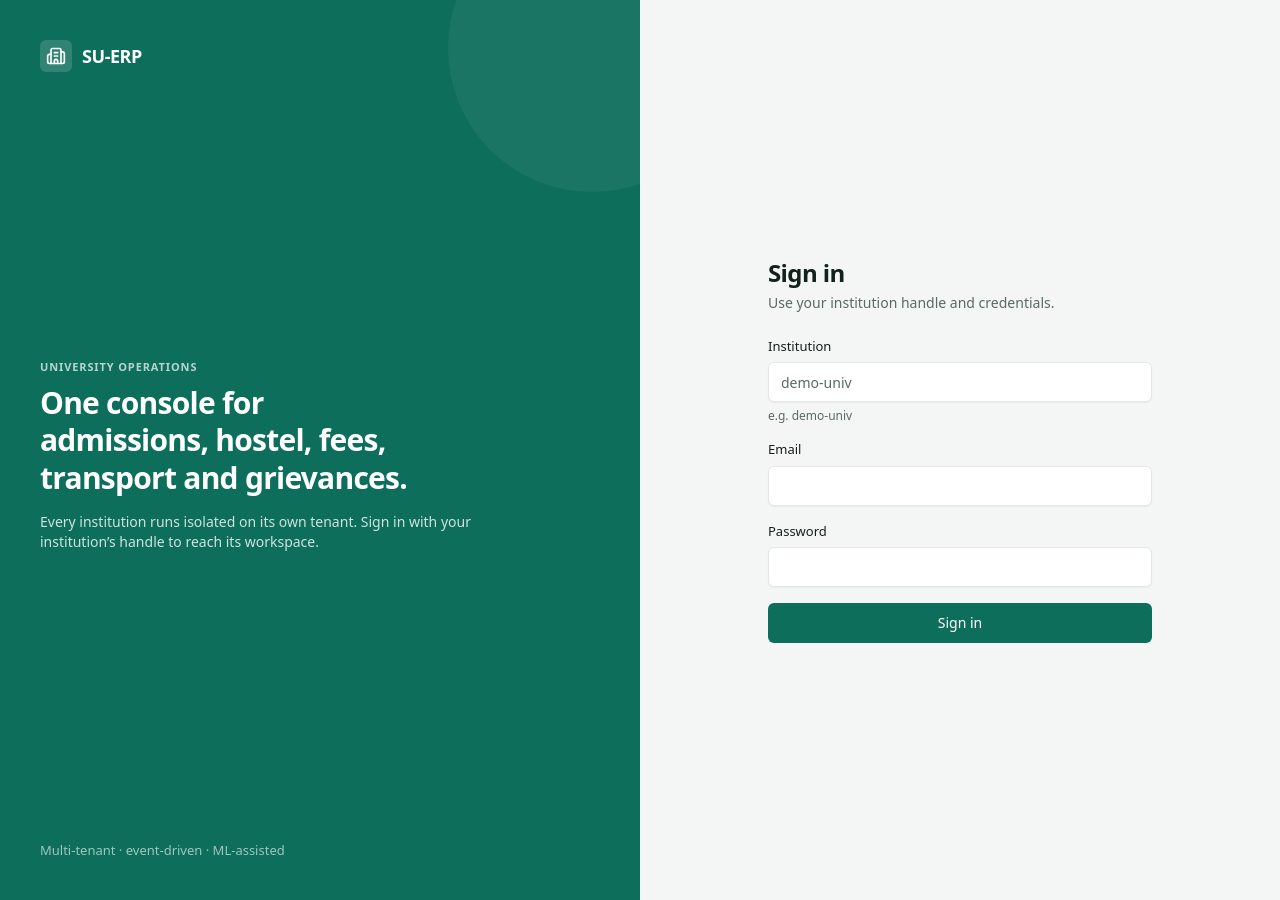
Test: LoginPage › displays the envelope error message on failed login
The width and height of the screenshot is (1280, 900).
Type "acme-univ" into the field labelled "Institution" at (960, 382), box [768,362,1152,402]
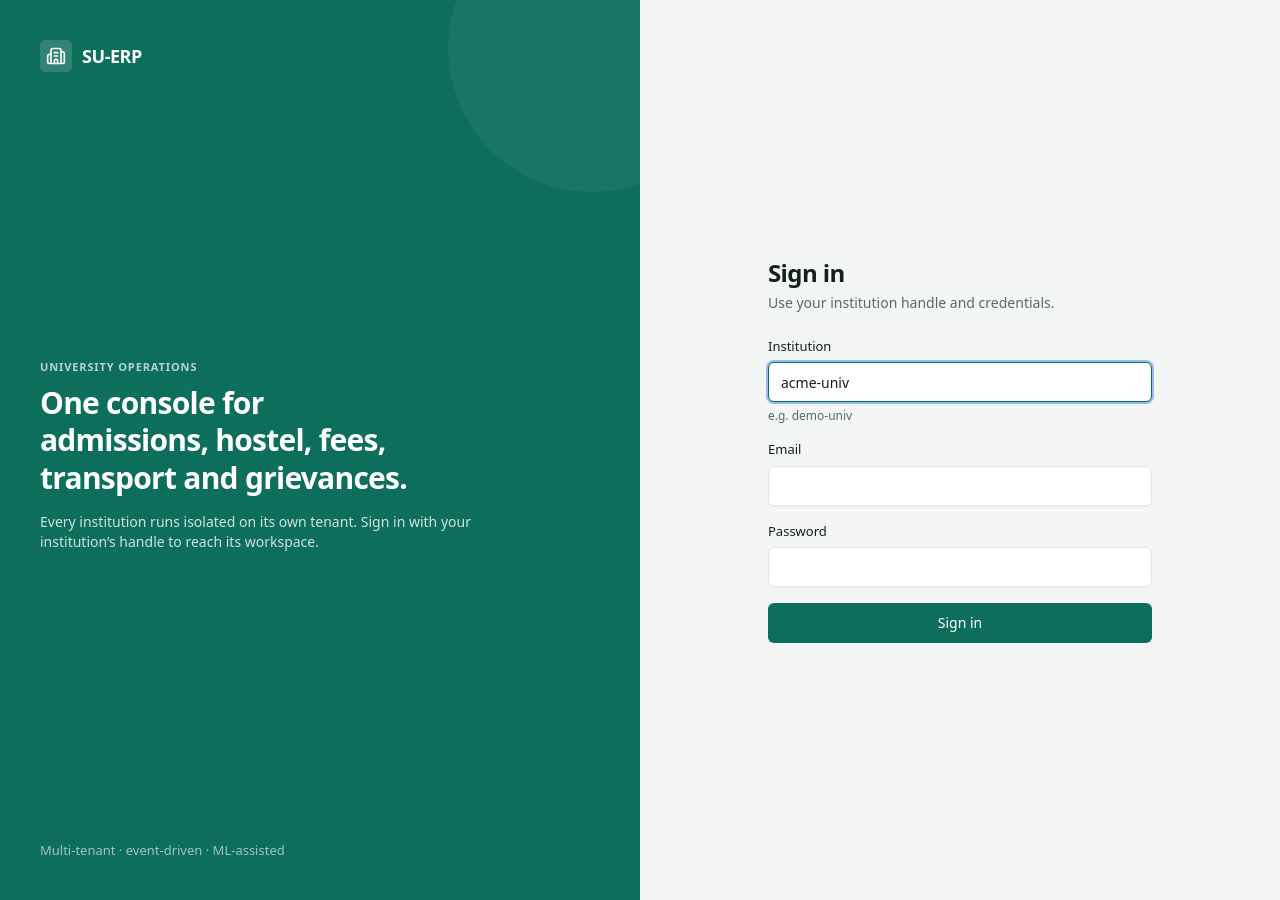
Type "stu@acme.edu" into the field labelled "Email" at (960, 486), box [768,466,1152,506]
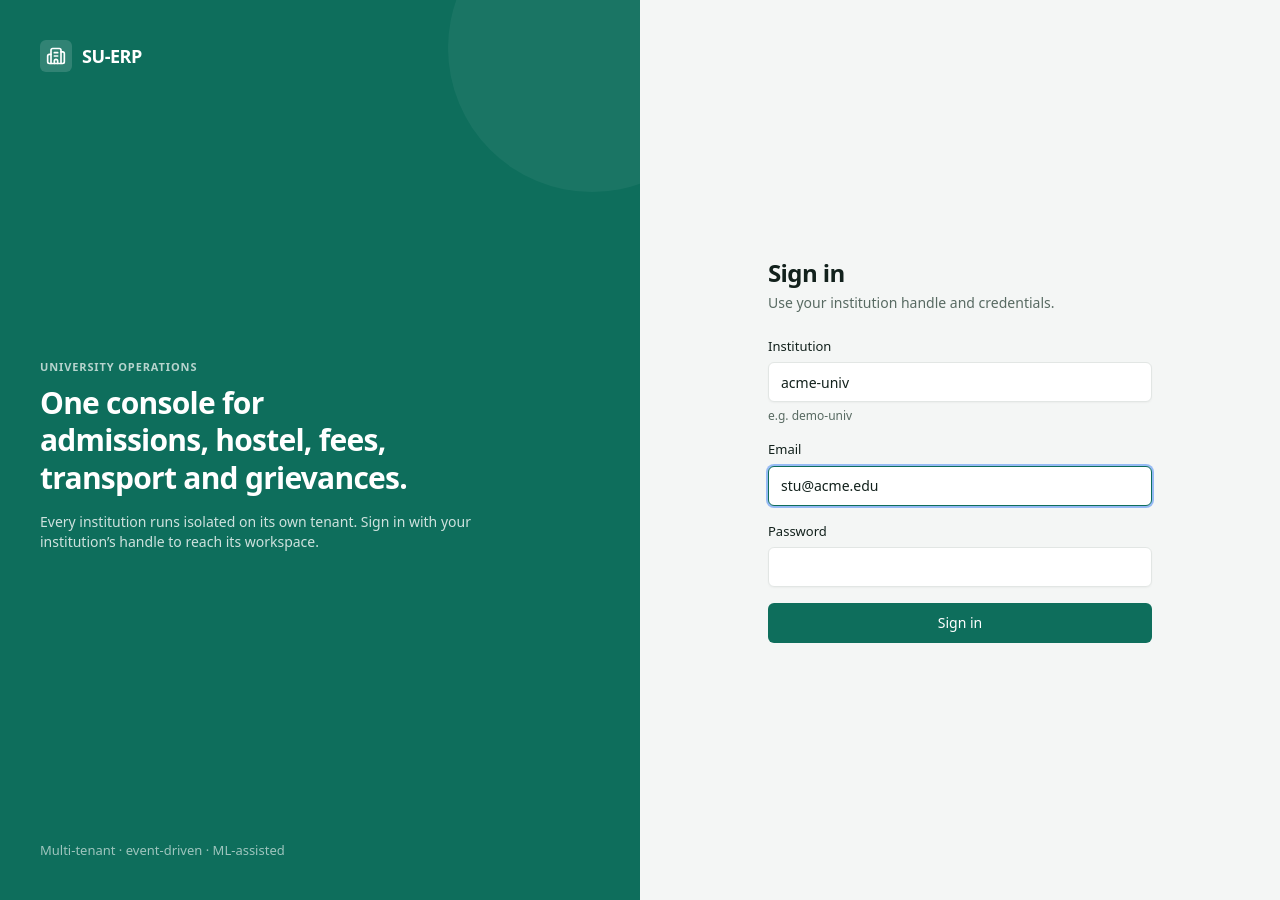
Type "secret" into the password field labelled "Password" at (960, 567), box [768,547,1152,587]
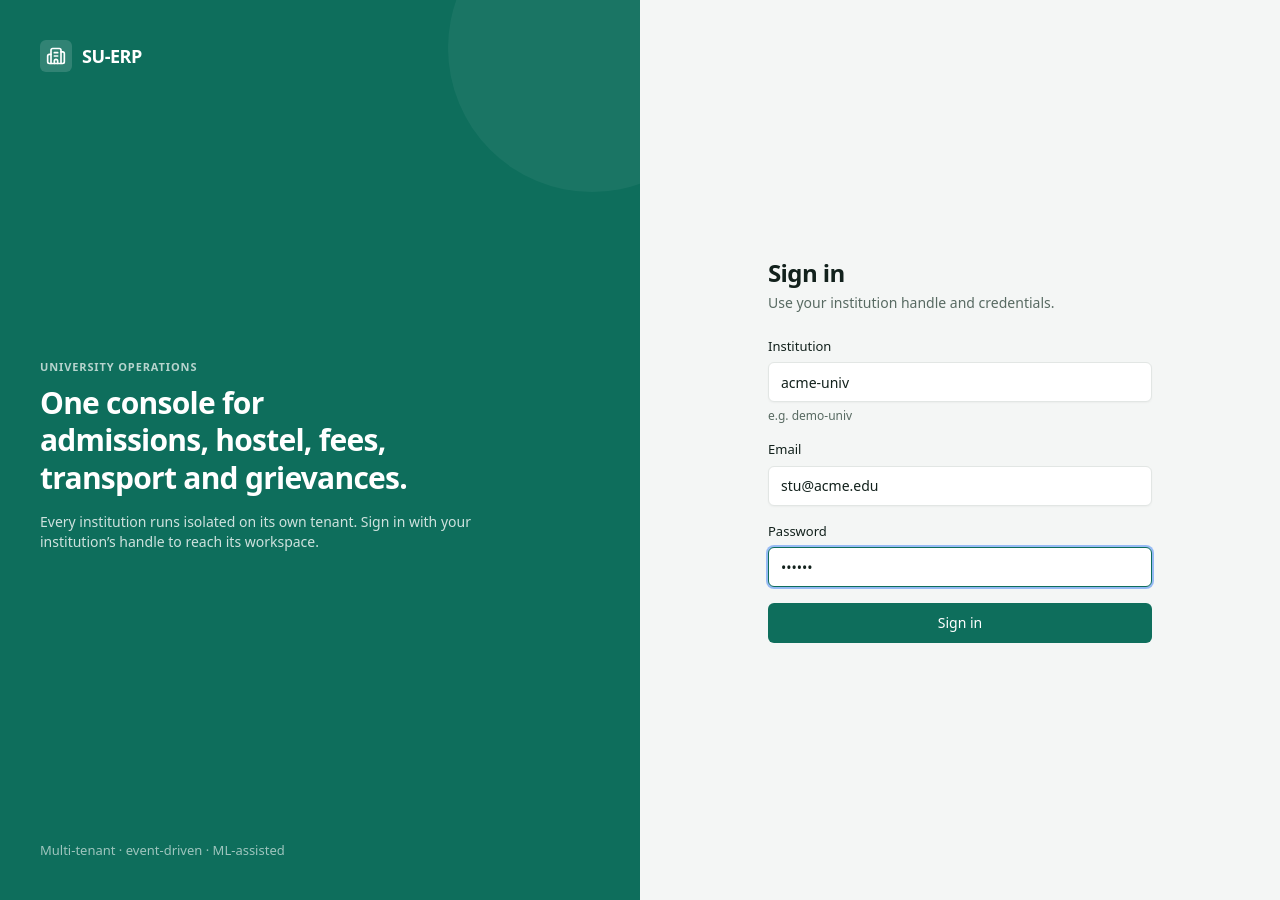
Click the button "Sign in" at (960, 623), box [768,603,1152,643]
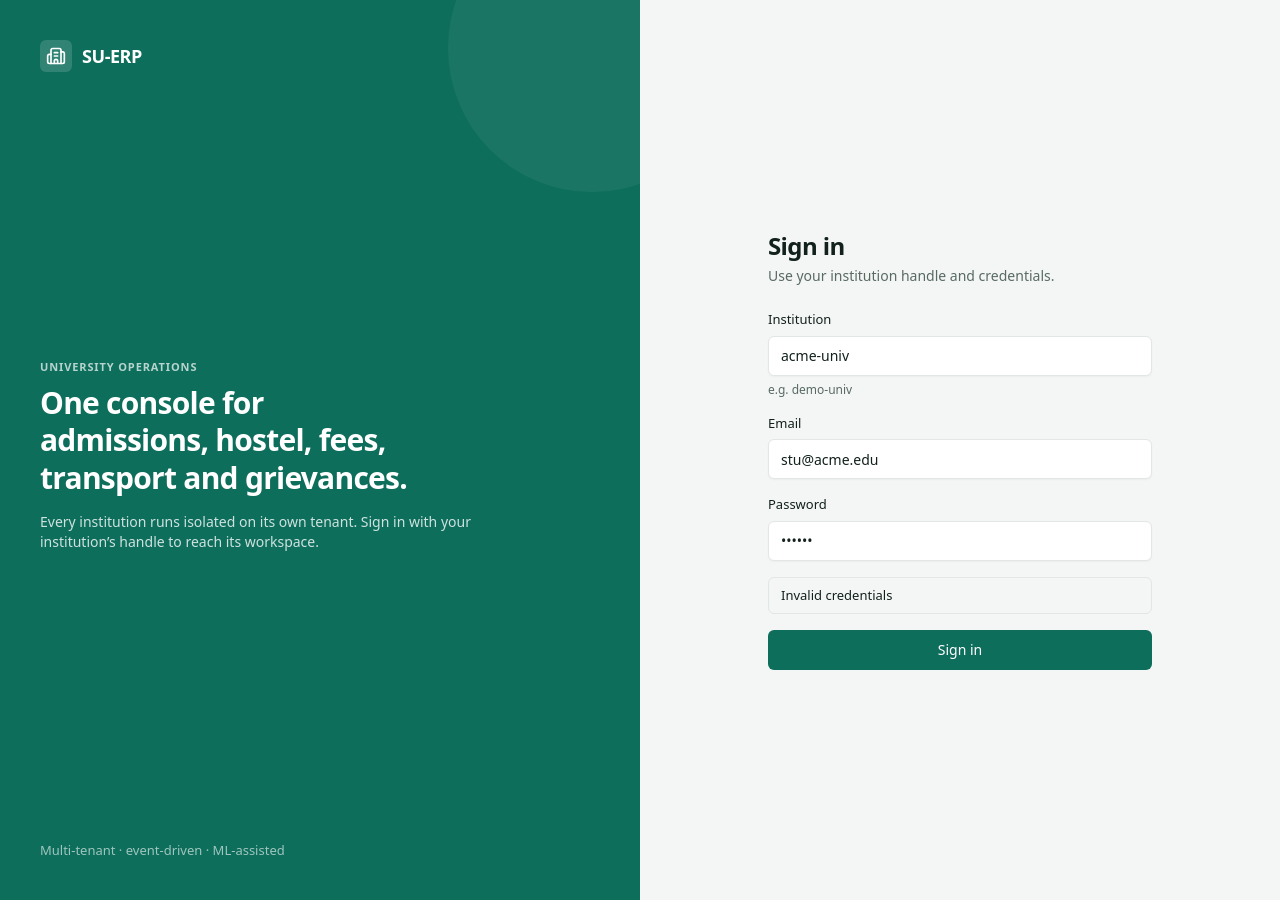
Expected: the message reads "Invalid credentials", [781,586,892,604]
